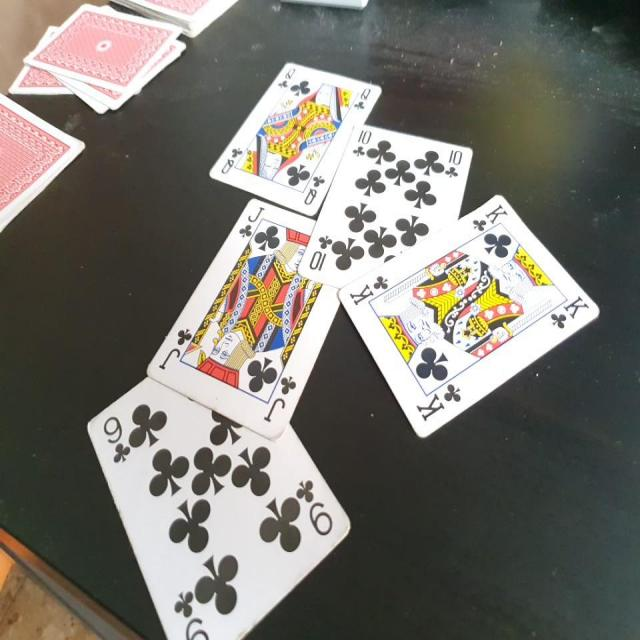10 Trefoils: (295, 122, 474, 285)
9 Trefoils: (84, 376, 353, 639)
J Trefoils: (144, 196, 341, 442)
K Trefoils: (338, 192, 601, 439)
Q Trefoils: (207, 63, 382, 214)
